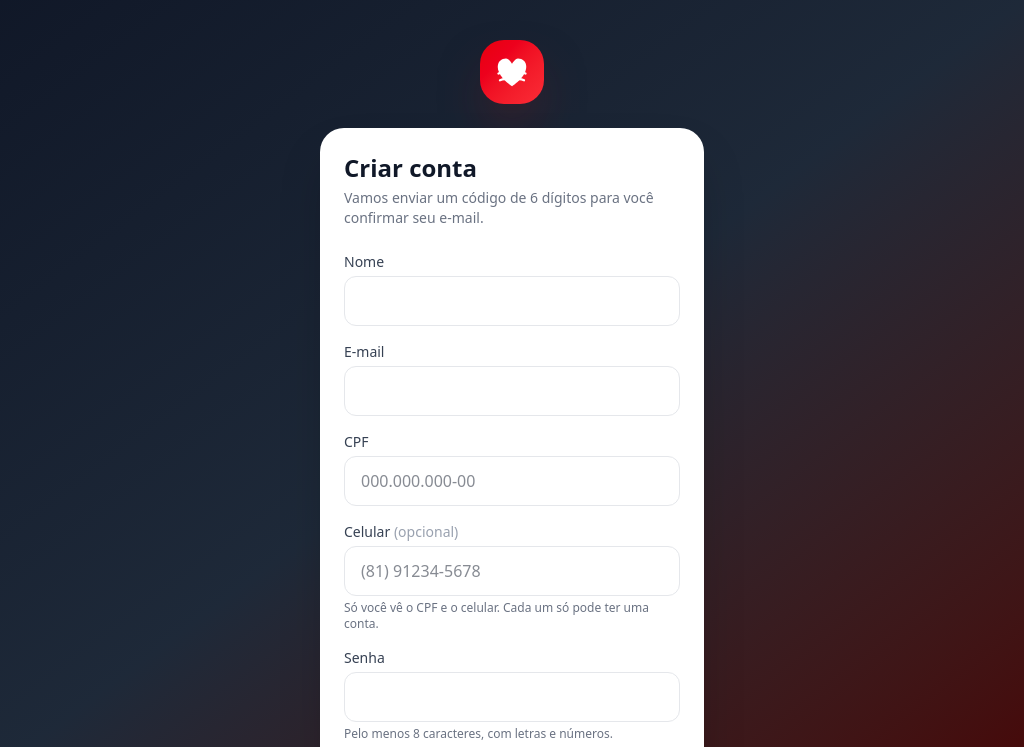
Test: SignupPage › uma senha fraca não cria a conta e diz o que falta
Type "Ana" into the field labelled "Nome" at (512, 301), box 344,276 -> 680,326
Type "ana@example.com" into the field labelled "E-mail" at (512, 391), box 344,366 -> 680,416
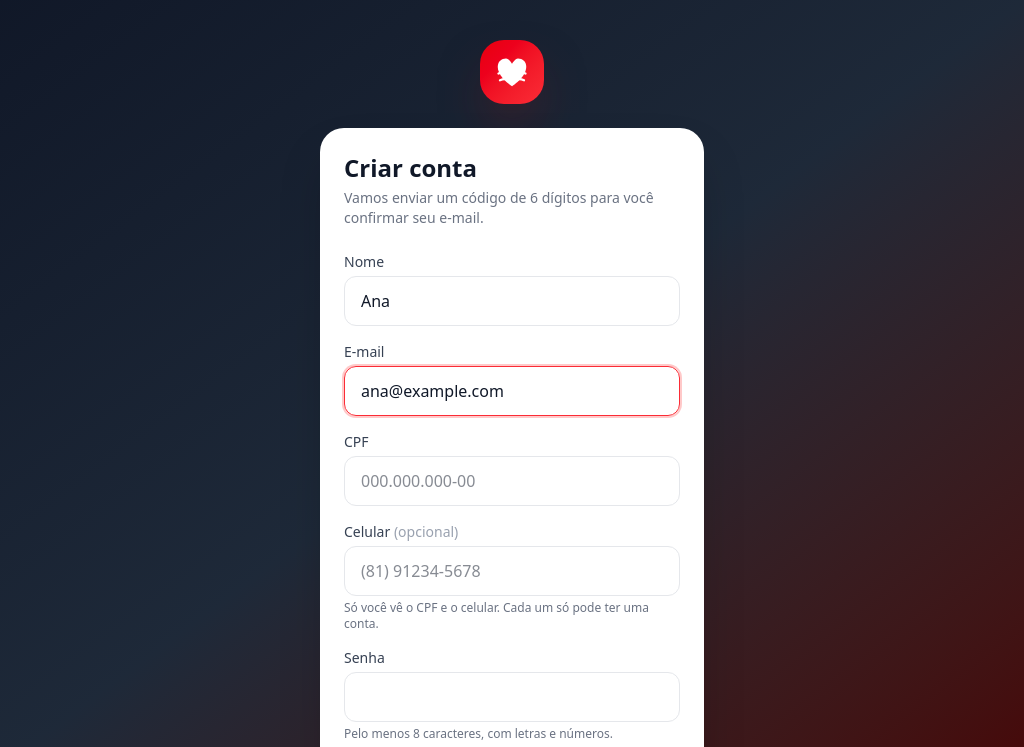
Type "52998224725" into the field labelled "CPF" at (512, 481), box 344,456 -> 680,506
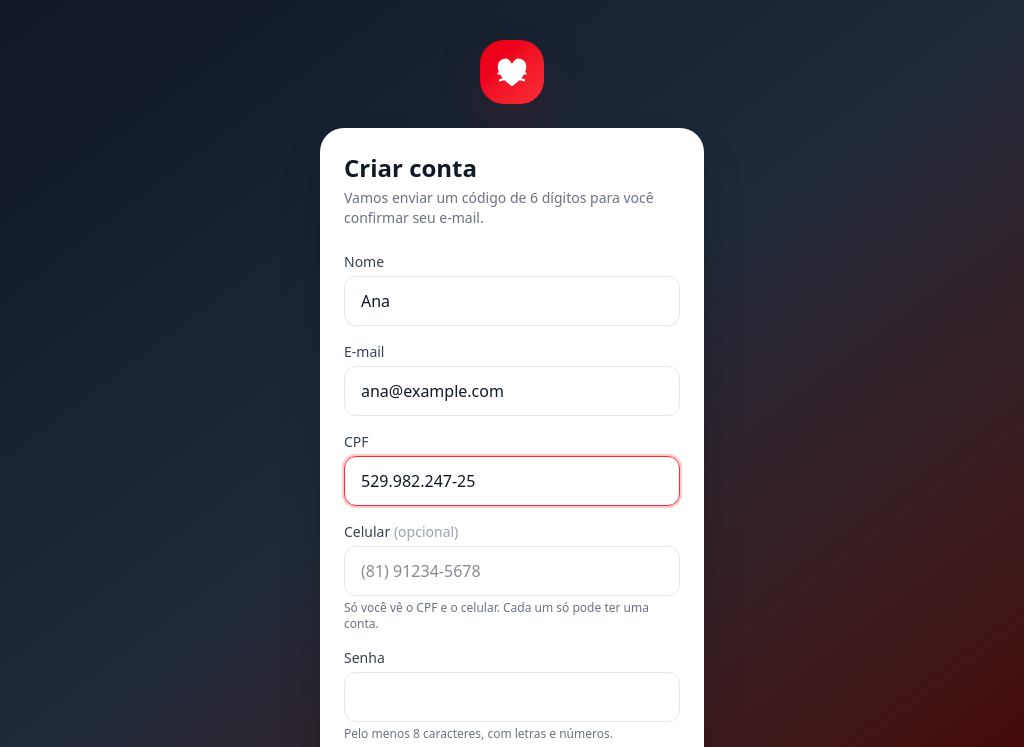
Type "81912345678" into the field labelled "Celular (opcional)" at (512, 571), box 344,546 -> 680,596
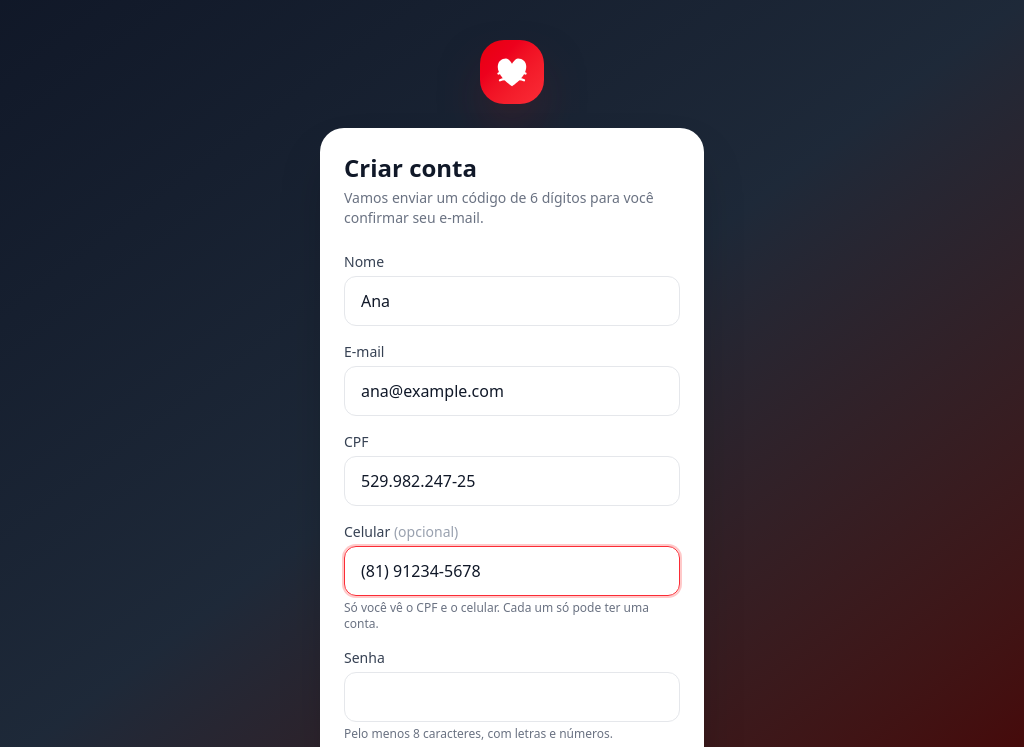
Type "abcdefgh" into the password field labelled "Senha" at (512, 697), box 344,672 -> 680,722
(page scrolled)
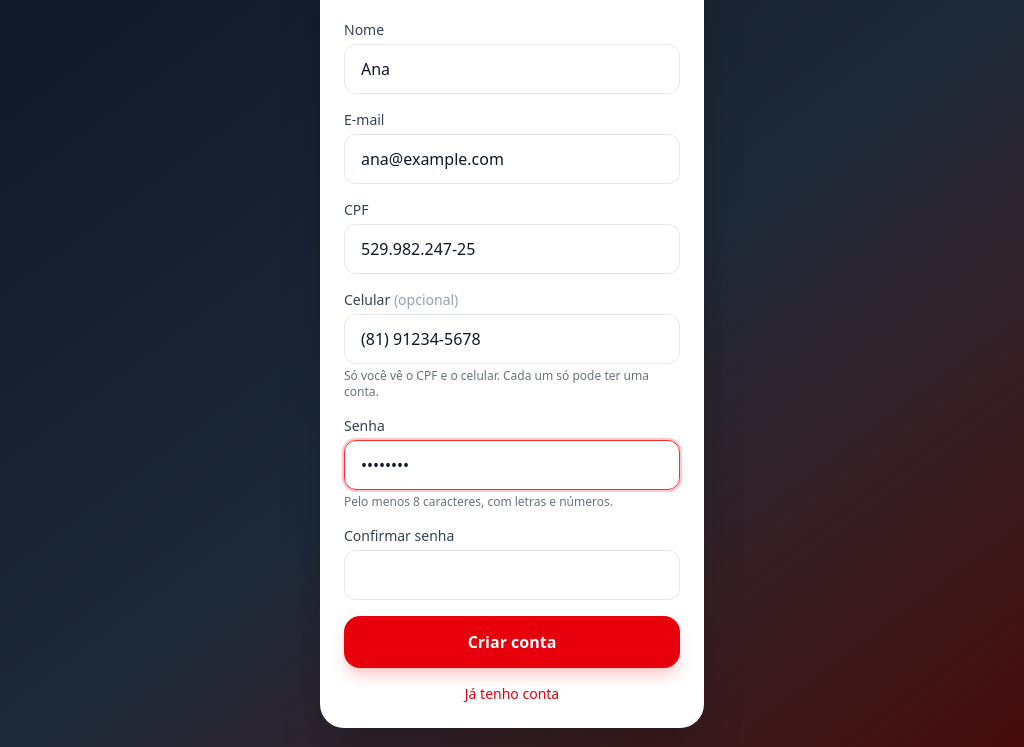
Type "abcdefgh" into the password field labelled "Confirmar senha" at (512, 575), box 344,550 -> 680,600
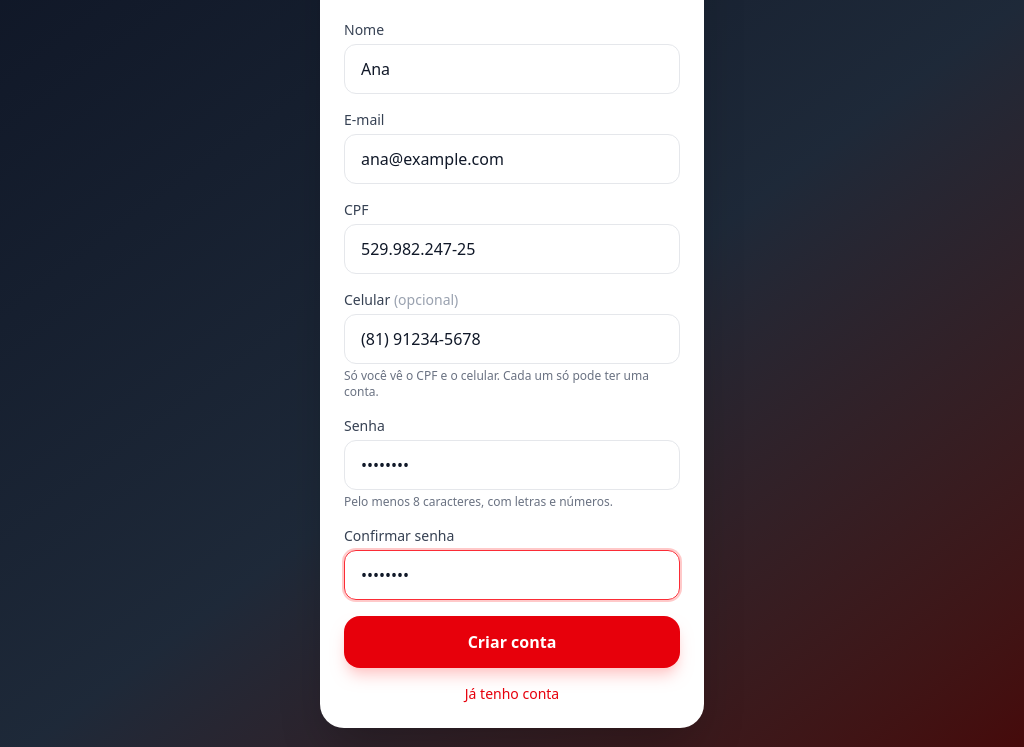
Click the button "Criar conta" at (512, 642), box 344,616 -> 680,668
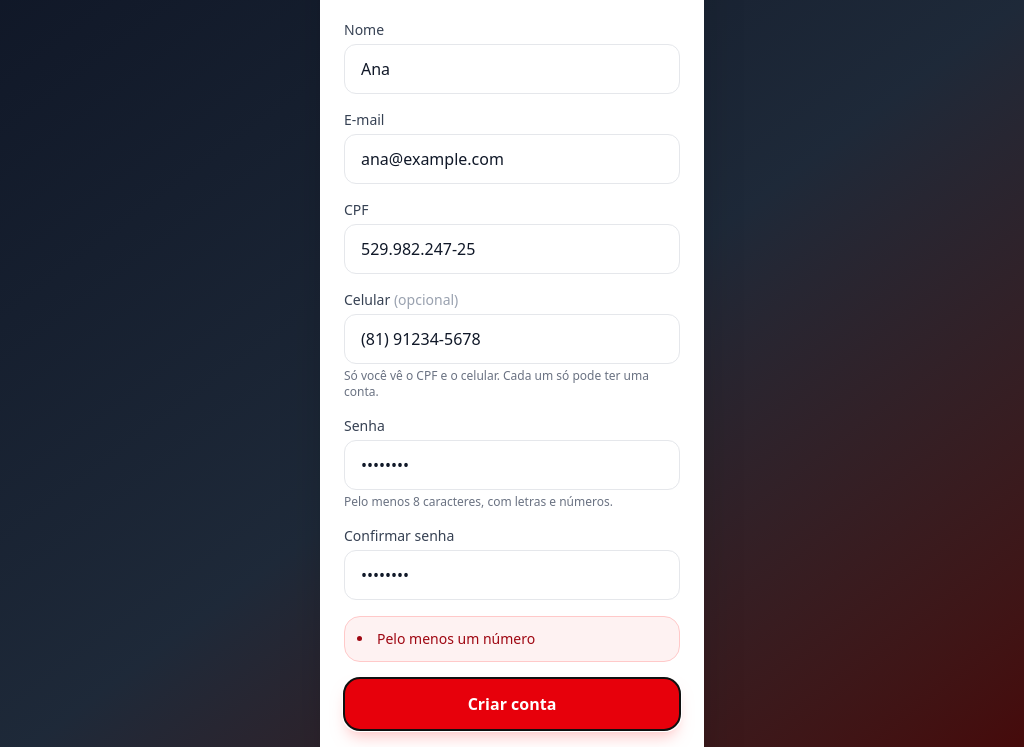
Check: the list item "Pelo menos um número" is shown, box 377,629 -> 535,648
